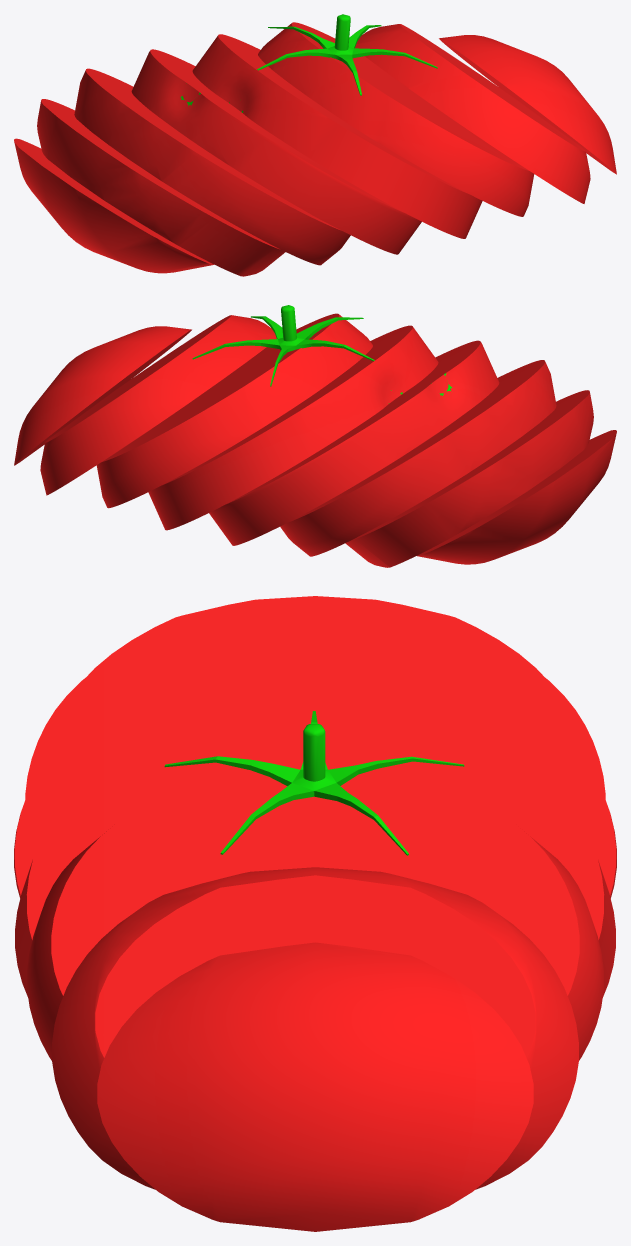
File: TomatoCutting.FBX
3 views of the same model, one above another, from view 1: azimuth 30°, elevation 25°; view 2: azimuth 150°, elevation 25°; view 3: azimuth 270°, elevation 25° (orthographic). The views are drawn at different scales.
Visible parts, largest first — view 1: Box001, Cylinder001; view 2: Box001, Cylinder001; view 3: Box001, Cylinder001.
Part boxes in pixels (<box>): Box001: <box>14,22,616,276</box>; Cylinder001: <box>257,14,437,95</box>; Box001: <box>14,313,616,567</box>; Cylinder001: <box>192,305,374,386</box>; Box001: <box>14,596,616,1231</box>; Cylinder001: <box>164,711,464,855</box>.
Size of the model in its own units: 141 by 83.35 by 50.15.
2 materials, 2 textured.
